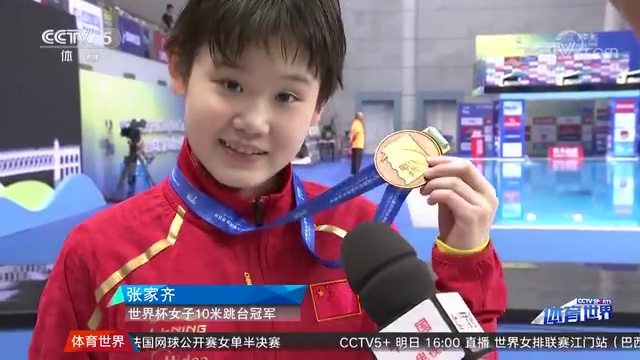face: (189, 34, 315, 185)
